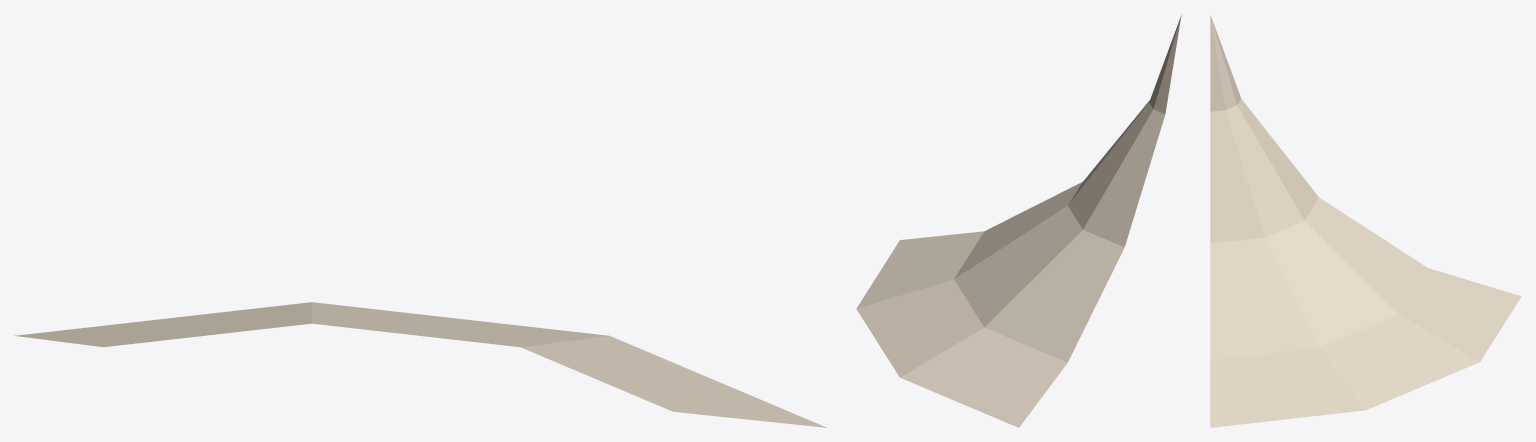
The model's file is Escarpment_Terrain_Corner_Outer_1x1_Base.glb.
3 renders of one model, left to right at view 1: azimuth 30°, elevation 25°; view 2: azimuth 150°, elevation 25°; view 3: azimuth 270°, elevation 25°, orthographic. The views are drawn at different scales.
Parts seen in each view (by area): view 1: Escarpment_Terrain_Corner_Outer_1x1_Base; view 2: Escarpment_Terrain_Corner_Outer_1x1_Base; view 3: Escarpment_Terrain_Corner_Outer_1x1_Base.
Boxes of the visible parts, x1=… form: Escarpment_Terrain_Corner_Outer_1x1_Base: x1=14, y1=302, x2=826, y2=427; Escarpment_Terrain_Corner_Outer_1x1_Base: x1=856, y1=15, x2=1181, y2=427; Escarpment_Terrain_Corner_Outer_1x1_Base: x1=1210, y1=15, x2=1521, y2=427.
Bounding box in the file's own units: 0.5 × 0.5 × 0.5.
